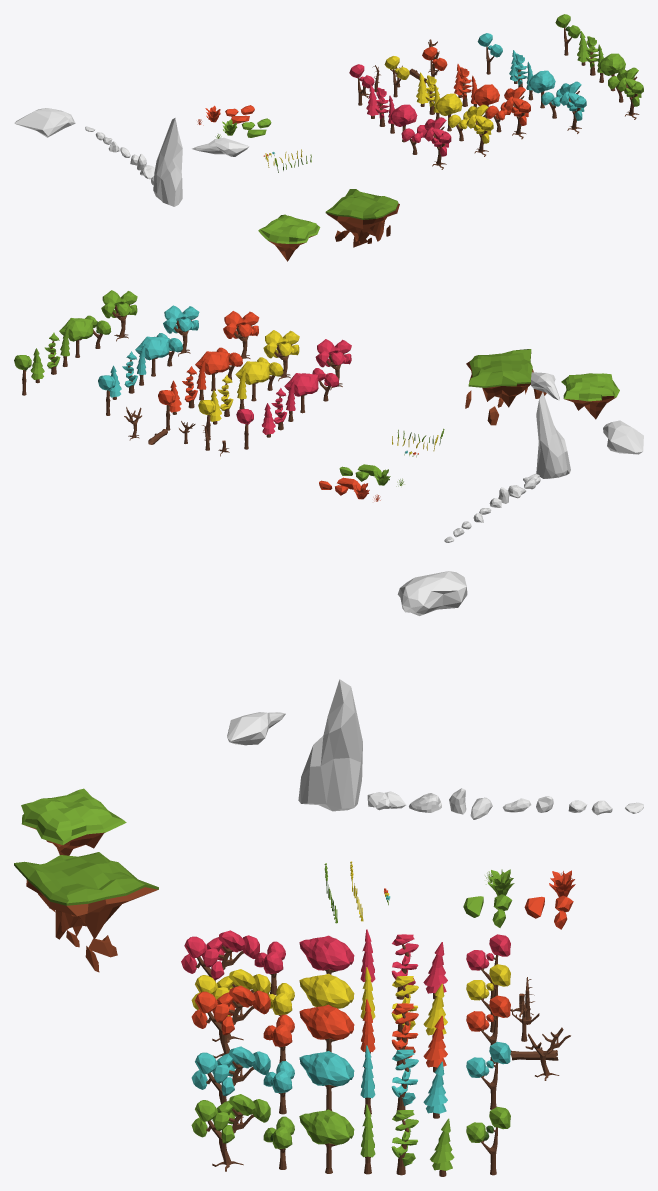
Rendered from slim_tree_red.fbx.
The picture shows the model from 3 angles, top to bottom: view 1: azimuth 30°, elevation 25°; view 2: azimuth 150°, elevation 25°; view 3: azimuth 270°, elevation 25°; orthographic projection. The views are drawn at different scales.
Visible parts, largest first — view 1: L1, r10, L2, cloud2, t1-yellow, t1-green, t1-cyan, t1-purple, t1-orange, cloud1, t3-cyan, t3-yellow (+9 smaller); view 2: L1, r10, L2, cloud2, t1-green, t1-yellow, t1-cyan, t1-orange, t1-purple, t3-purple, t3-orange, t3-cyan (+4 smaller); view 3: L1, r10, L2, t1-green, t1-orange, t1-cyan, cloud2, t1-purple, t3-green, t3-cyan, t3-orange, t3-purple (+13 smaller).
Part boxes in pixels (<box>): L1: <box>325,189,399,247</box>; r10: <box>153,118,182,206</box>; L2: <box>258,214,320,261</box>; cloud2: <box>14,108,75,137</box>; t1-yellow: <box>466,104,493,156</box>; t1-green: <box>616,67,643,119</box>; t1-cyan: <box>559,81,586,133</box>; t1-purple: <box>424,117,451,169</box>; t1-orange: <box>504,87,530,139</box>; cloud1: <box>192,137,248,156</box>; t3-cyan: <box>528,70,555,108</box>; t3-yellow: <box>435,93,462,131</box>; L1: <box>465,349,546,425</box>; r10: <box>536,392,570,478</box>; L2: <box>561,373,619,419</box>; cloud2: <box>603,420,643,454</box>; t1-green: <box>101,290,137,341</box>; t1-yellow: <box>263,330,299,381</box>; t1-cyan: <box>163,305,199,356</box>; t1-orange: <box>223,311,259,358</box>; t1-purple: <box>315,339,351,390</box>; t3-purple: <box>284,373,318,413</box>; t3-orange: <box>195,351,229,391</box>; t3-cyan: <box>135,336,169,376</box>; L1: <box>14,852,158,972</box>; r10: <box>298,679,362,811</box>; L2: <box>21,788,126,855</box>; t1-green: <box>191,1094,270,1171</box>; t1-orange: <box>191,985,270,1058</box>; t1-cyan: <box>191,1046,270,1117</box>; cloud2: <box>397,571,467,615</box>; t1-purple: <box>181,930,259,981</box>; t3-green: <box>299,1109,354,1173</box>; t3-cyan: <box>299,1051,354,1110</box>; t3-orange: <box>299,1004,354,1052</box>; t3-purple: <box>299,935,354,974</box>.
Size of what is drawn, in the model's own units: 15781 by 3134 by 8779.
